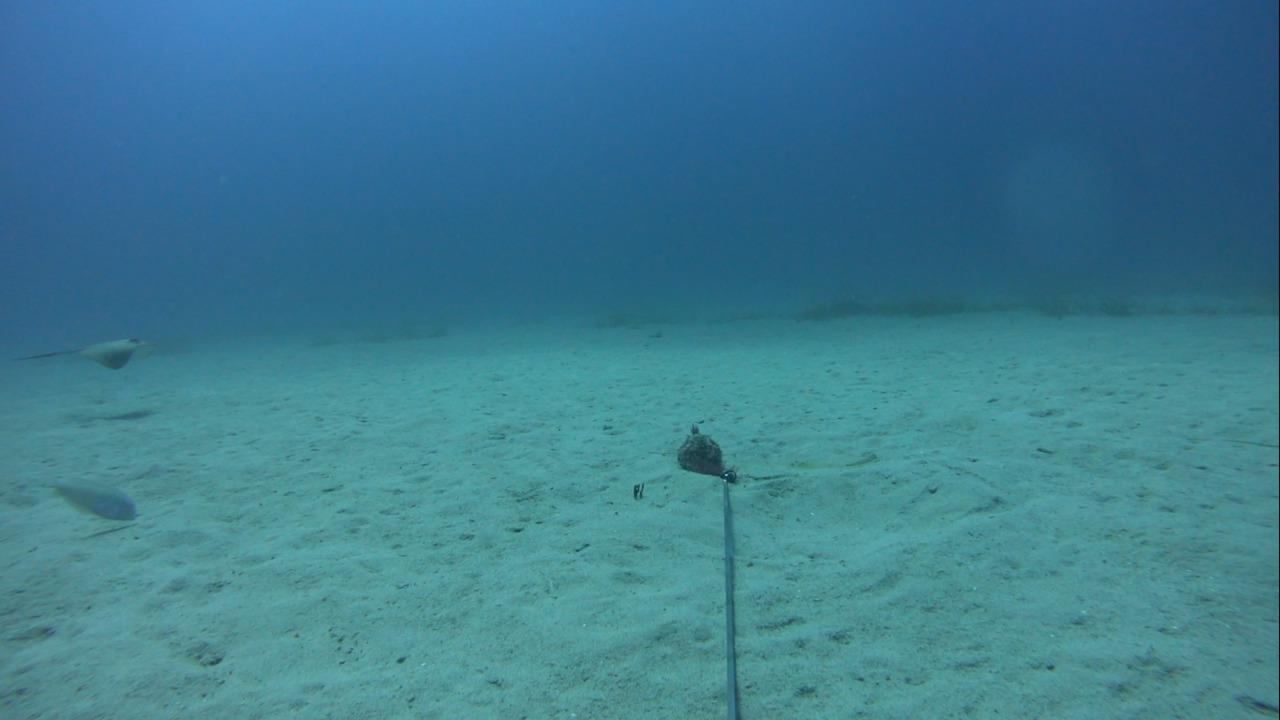myliobatis: (4, 329, 155, 384)
raor: (33, 477, 140, 529)
